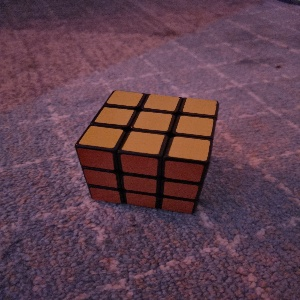cube: (73, 90, 220, 215)
